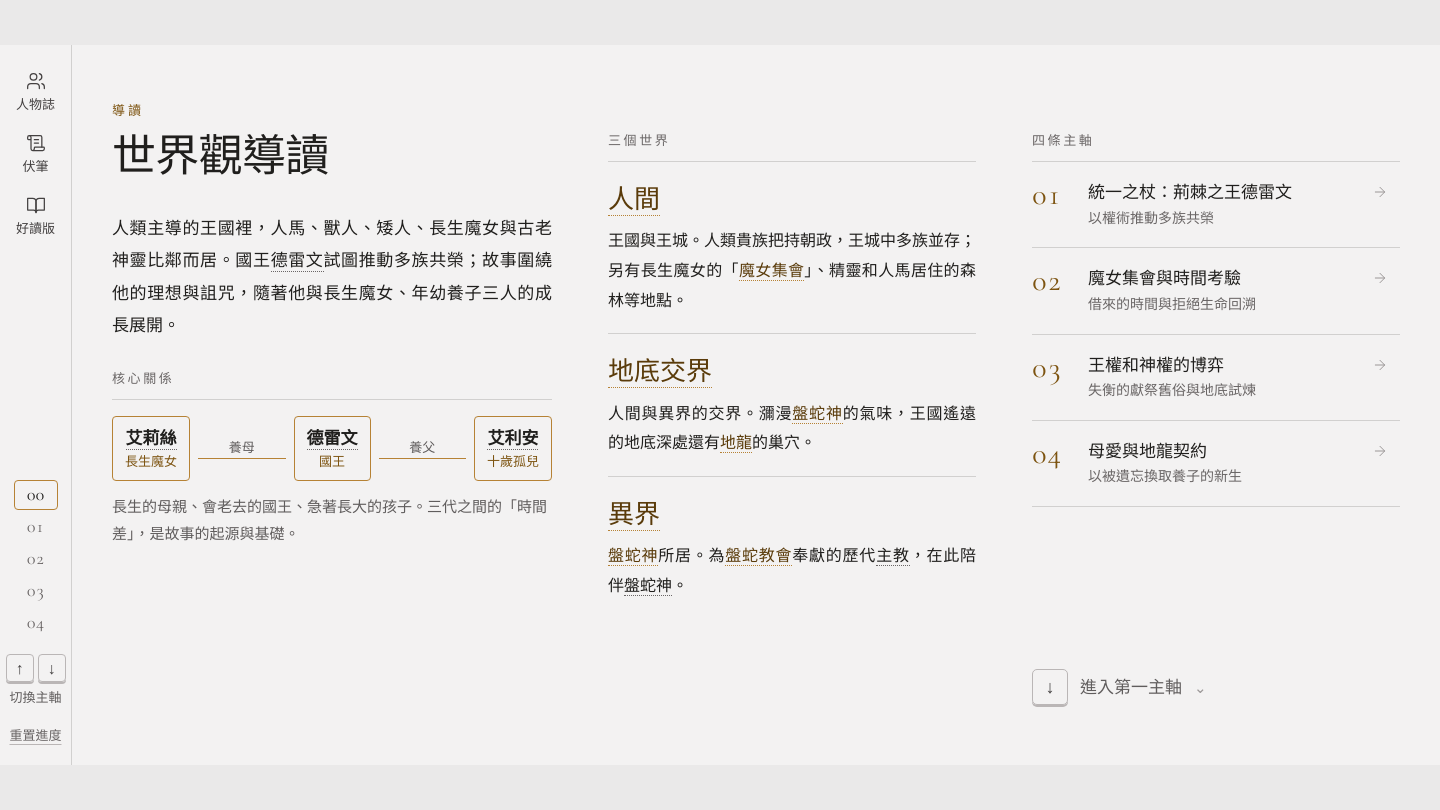
Test: 托盤（舞台版） › 沒有伏筆：開啟後顯示空狀態文字
The image size is (1440, 810).
Click the button "伏筆" at (36, 155), box [8,127,64,183]
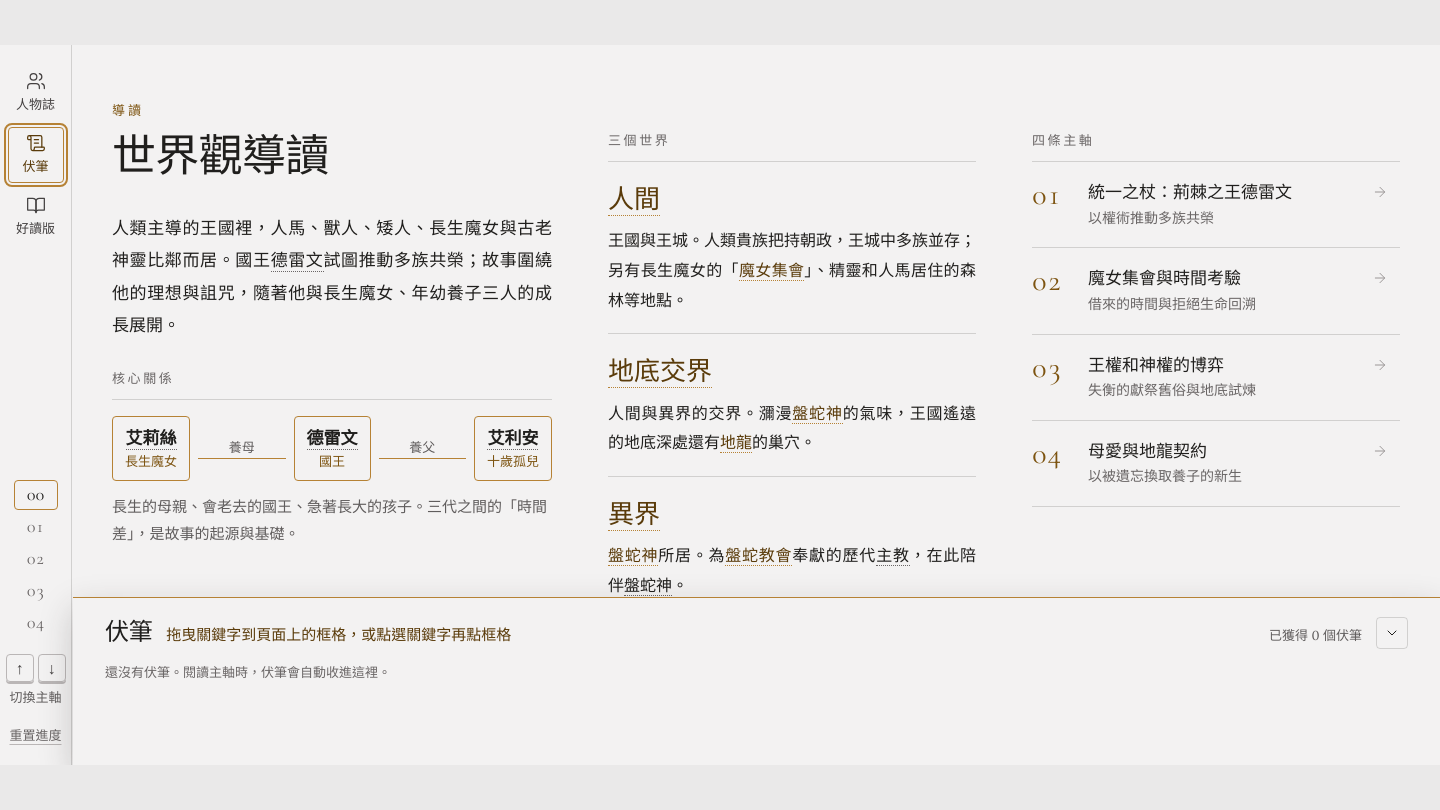
Result: the element showing "伏筆 拖曳關鍵字到頁面上的框格，或點選關鍵字再點框格 已獲得 0 個伏筆 還沒有伏筆。閱讀主軸時，伏筆會自動收進這裡。" is shown at [73,597,1439,765]
